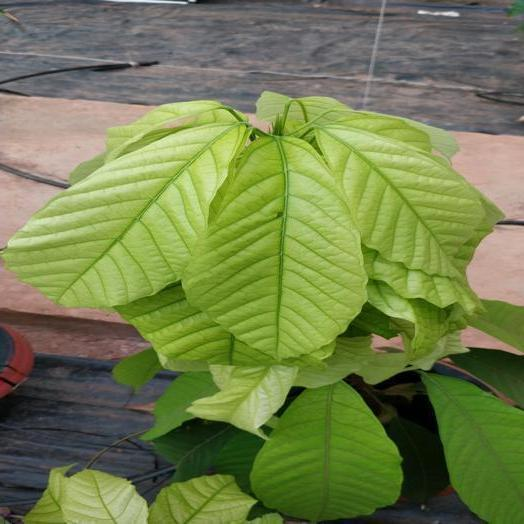Healthy Leaf: (251, 381, 402, 521), (422, 373, 523, 523), (143, 372, 217, 439), (452, 348, 523, 407), (469, 299, 523, 351)
Iron: (4, 123, 246, 306), (183, 138, 366, 359), (317, 124, 480, 275), (363, 189, 503, 311), (70, 100, 233, 181), (117, 284, 276, 365), (188, 365, 297, 438), (149, 475, 255, 523), (59, 470, 146, 523), (257, 91, 352, 130), (24, 467, 66, 523)
